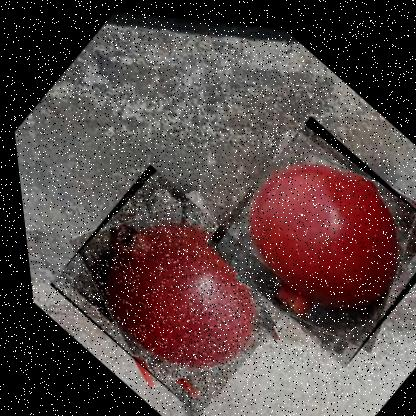pomegranate: (30, 149, 305, 415), (185, 96, 415, 370)
